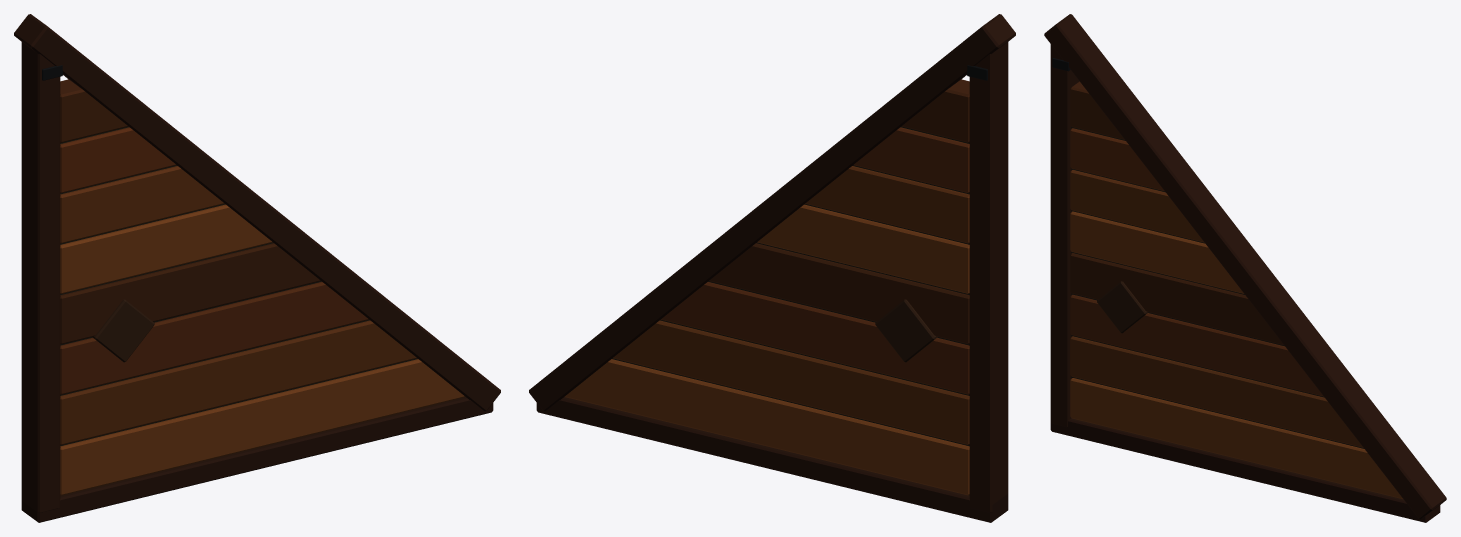
File: mod_gable_wall_45deg_2m.glb
3 renders of one model, left to right at view 1: azimuth 30°, elevation 25°; view 2: azimuth 150°, elevation 25°; view 3: azimuth 330°, elevation 25°, orthographic. The views are drawn at different scales.
Parts seen in each view (by area): view 1: Mod_Gable_Wall_45deg_2m; view 2: Mod_Gable_Wall_45deg_2m; view 3: Mod_Gable_Wall_45deg_2m.
Part boxes in pixels (left/top/right/bottom): Mod_Gable_Wall_45deg_2m: left=14, top=14, right=500, bottom=522; Mod_Gable_Wall_45deg_2m: left=529, top=14, right=1015, bottom=522; Mod_Gable_Wall_45deg_2m: left=1044, top=14, right=1446, bottom=522.
Size of the model in its own units: 2.06 by 2.08 by 0.148.
